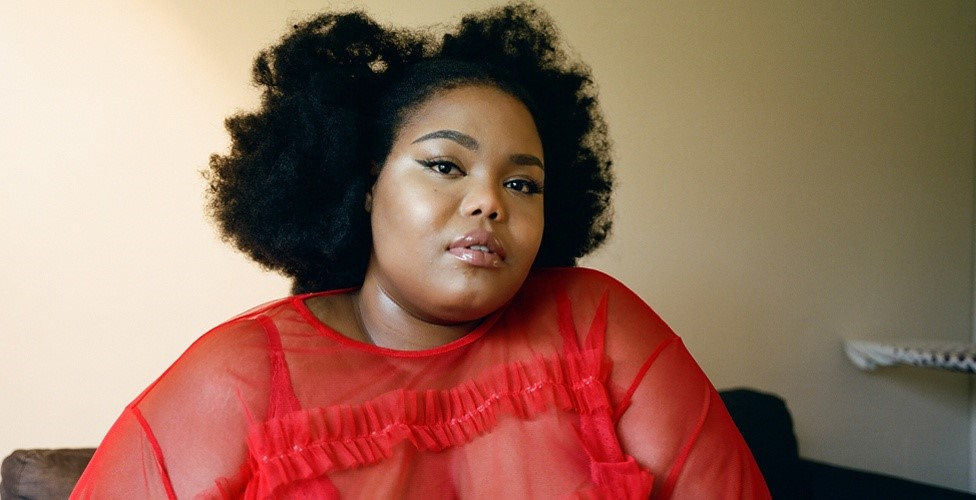face_no_mask: (363, 47, 551, 323)
